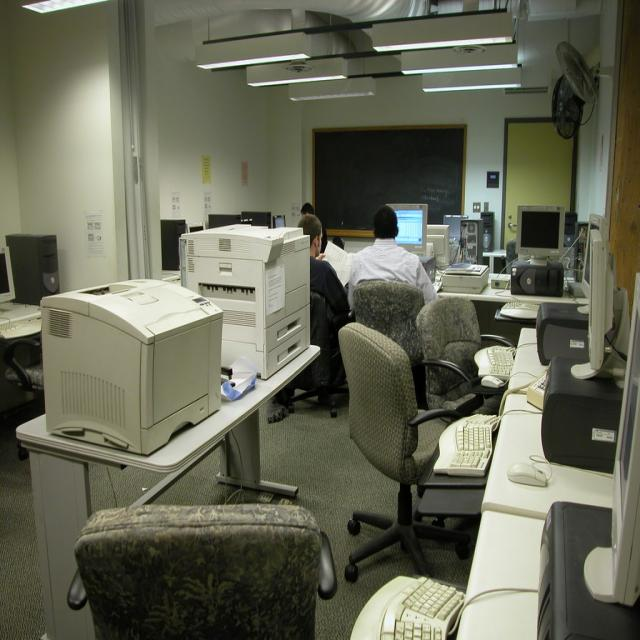printer: (31, 268, 232, 462), (168, 211, 319, 390)
